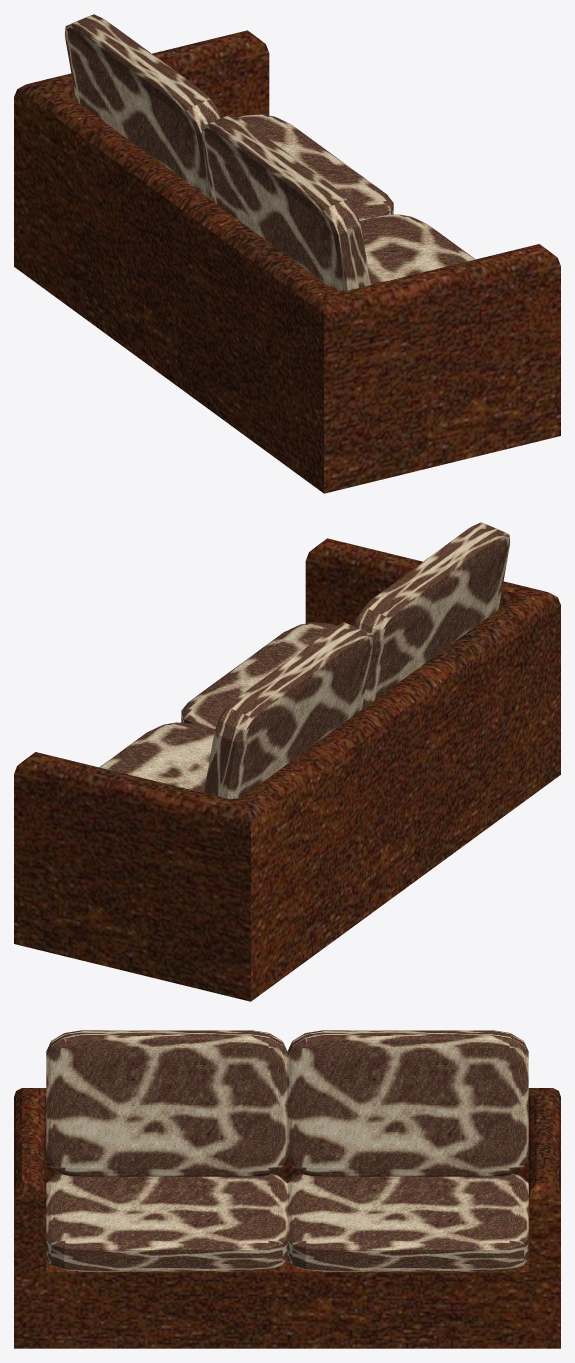
The model's file is couch.glb.
3 views of the same model, one above another, from view 1: azimuth 30°, elevation 25°; view 2: azimuth 150°, elevation 25°; view 3: azimuth 270°, elevation 25° (orthographic). The views are drawn at different scales.
Visible parts, largest first — view 1: Cube; view 2: Cube; view 3: Cube.
Part boxes in pixels (left/top/right/bottom): Cube: left=14, top=14, right=560, bottom=493; Cube: left=14, top=522, right=560, bottom=1001; Cube: left=14, top=1030, right=560, bottom=1348.
Size of the model in its own units: 1.21 by 1.28 by 2.72.
2 materials, 2 textured.
